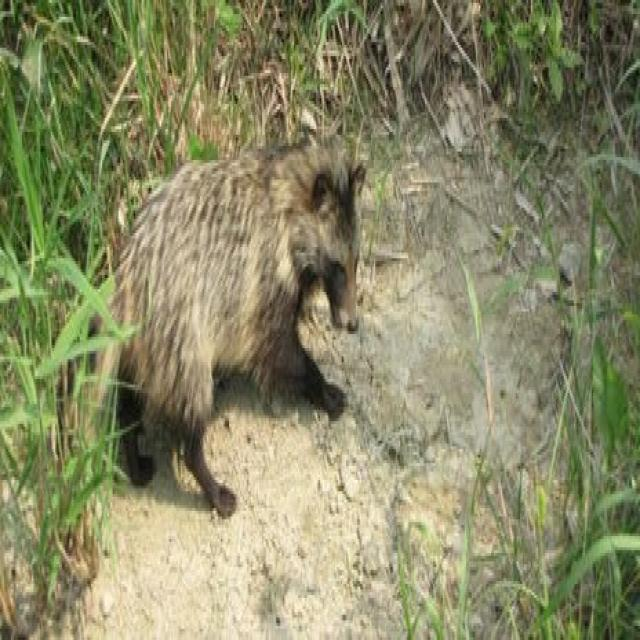racoon: (107, 139, 374, 520)
